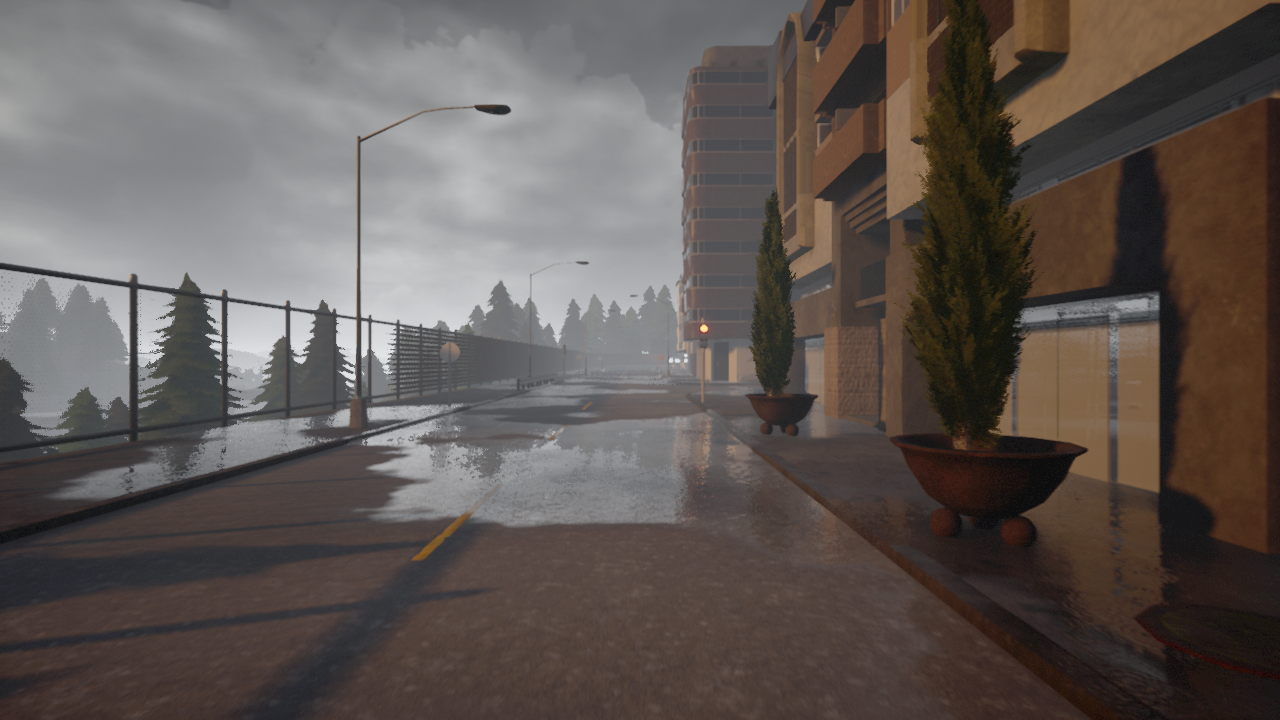red: (699, 323, 708, 350)
